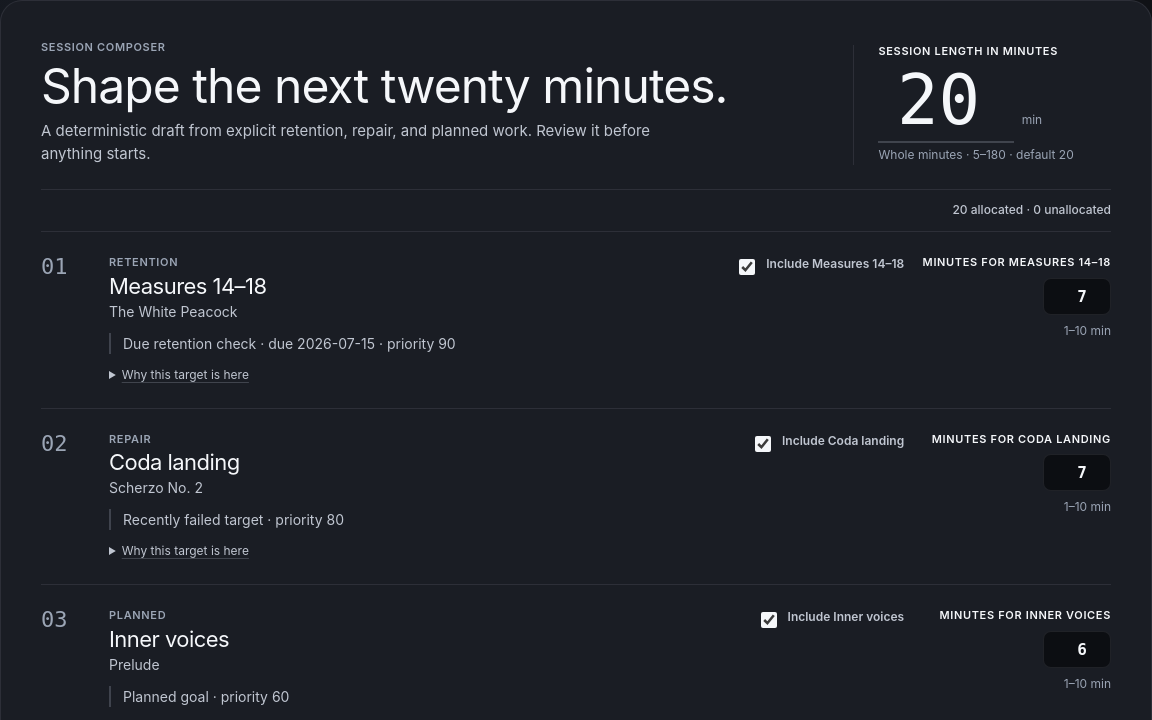
Scenario: SessionComposer › live-validates the session length
Clear the number field labelled "Session length in minutes" at (946,101), box [878,59,1014,143]
(page scrolled)
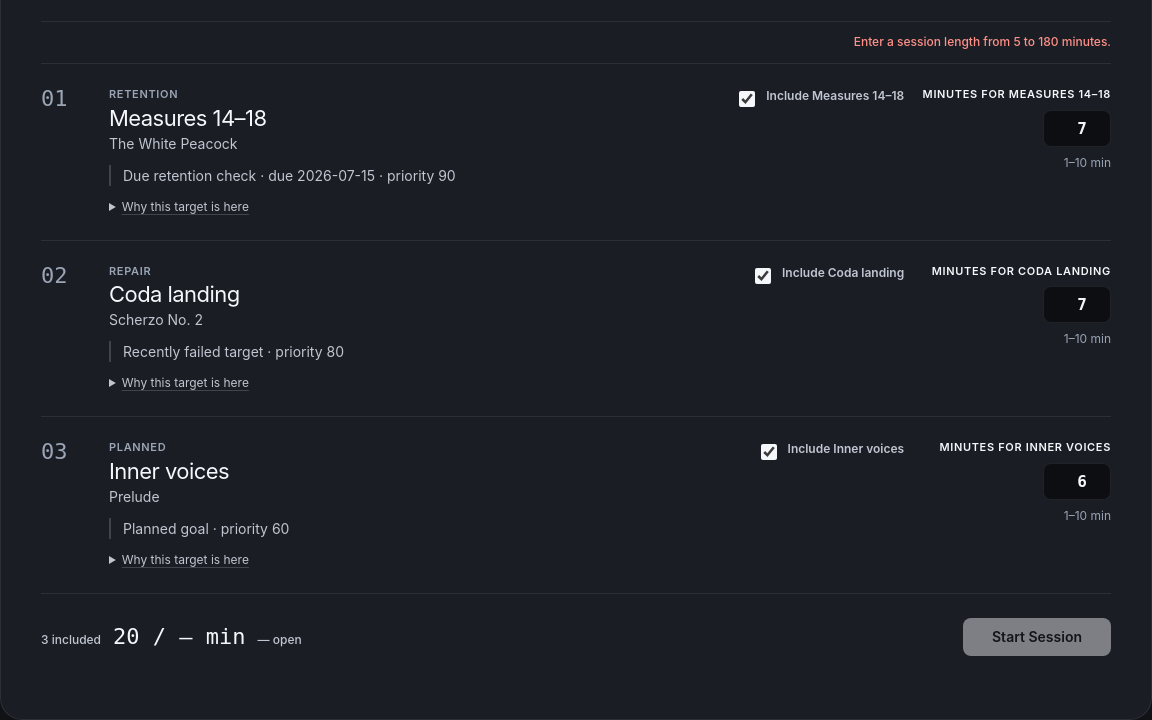
Now the text "Enter a session length from 5 to 180 minutes." is shown, box [854,34,1111,49]
Now the button "Start Session" is disabled, box [963,618,1111,656]
